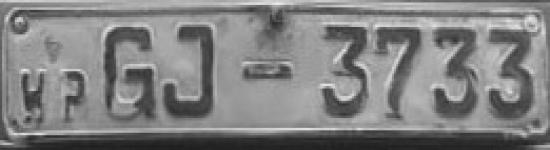-: (232, 51, 304, 90)
3: (308, 16, 371, 126), (482, 20, 540, 126), (426, 22, 484, 125)
7: (370, 20, 426, 125)
G: (85, 21, 161, 127)
J: (160, 20, 226, 128)
P: (54, 66, 93, 126)
W: (15, 64, 52, 130)
